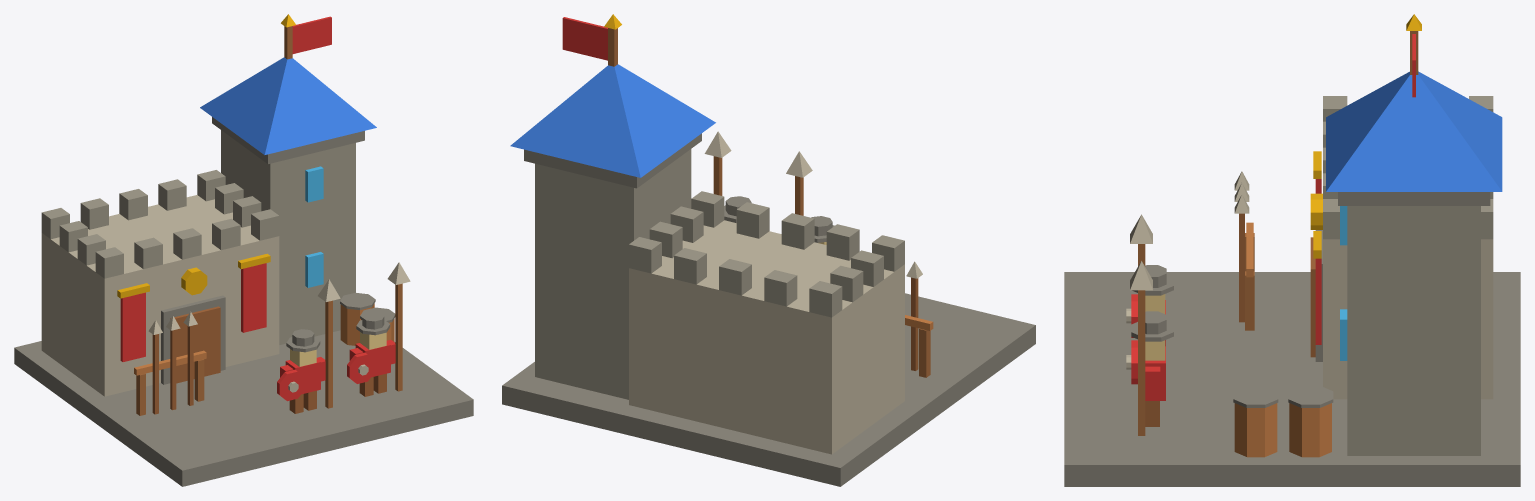
File: barracks_t2_v2.glb
3 views of the same model, side by side, from view 1: azimuth 30°, elevation 25°; view 2: azimuth 150°, elevation 25°; view 3: azimuth 270°, elevation 25° (orthographic). The views are drawn at different scales.
Parts seen in each view (by area): view 1: barracks_t2_v2; view 2: barracks_t2_v2; view 3: barracks_t2_v2.
Boxes of the visible parts, x1,y1,x2,y2 form: barracks_t2_v2: (14,14,473,486); barracks_t2_v2: (502,14,1035,486); barracks_t2_v2: (1064,14,1520,486).
Bounding box in the file's own units: 0.75 × 0.79 × 0.75.
1 material, 1 textured.
